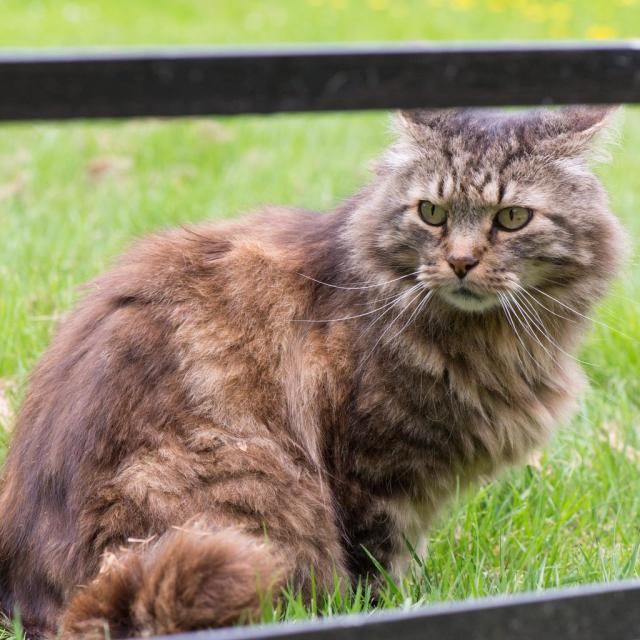Cat: (0, 100, 638, 640)
